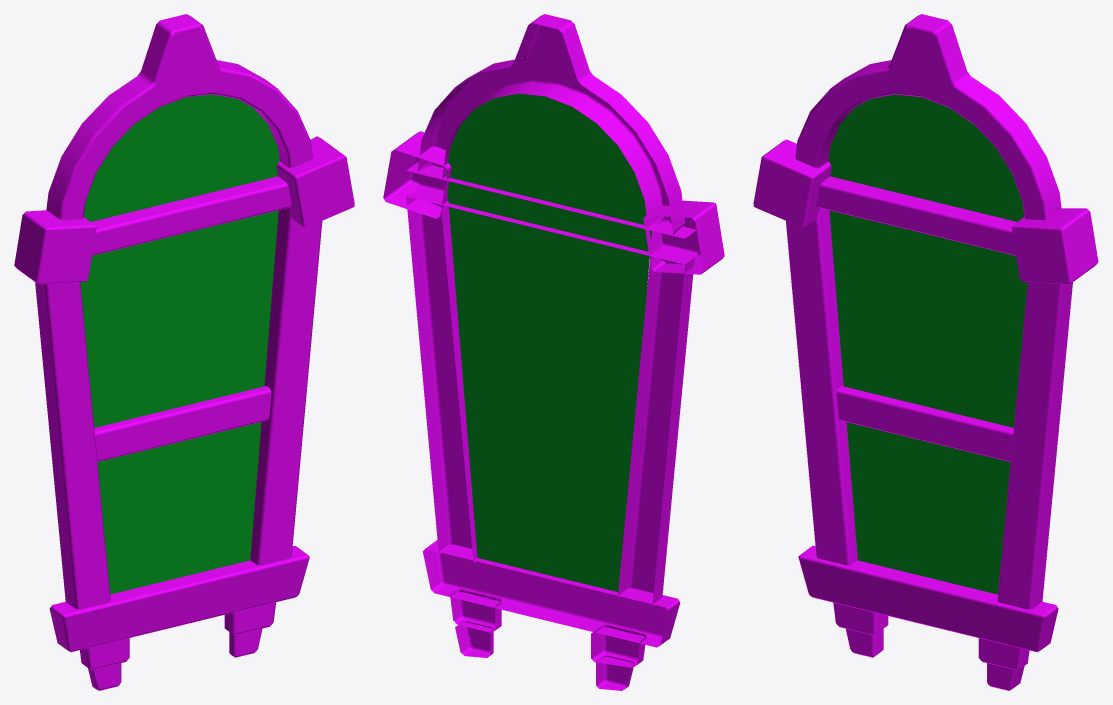
The model's file is Fenetre_Simple_4x4x0_04.FBX.
3 views of the same model, side by side, from view 1: azimuth 30°, elevation 25°; view 2: azimuth 150°, elevation 25°; view 3: azimuth 330°, elevation 25° (orthographic).
Parts seen in each view (by area): view 1: Fenetre_Simple_4x4x0_04; view 2: Fenetre_Simple_4x4x0_04; view 3: Fenetre_Simple_4x4x0_04.
Boxes of the visible parts, x1=… form: Fenetre_Simple_4x4x0_04: x1=14, y1=14, x2=354, y2=690; Fenetre_Simple_4x4x0_04: x1=383, y1=14, x2=724, y2=690; Fenetre_Simple_4x4x0_04: x1=753, y1=14, x2=1098, y2=690.
Bounding box in the file's own units: 103 × 202 × 15.7.
